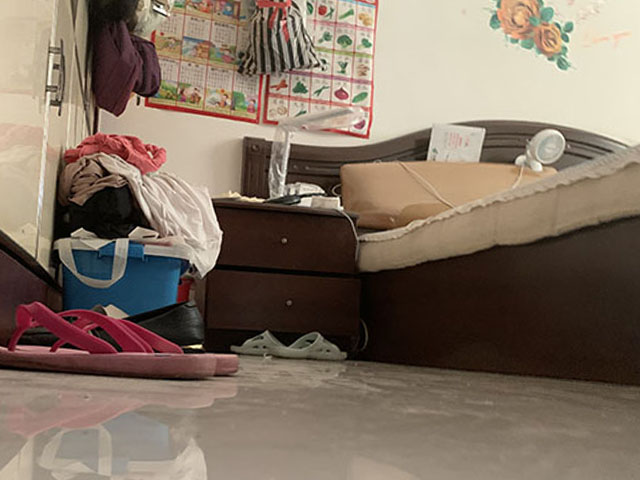bed: (356, 119, 640, 390)
cabinet: (206, 194, 361, 358)
slippers: (1, 300, 220, 380), (269, 331, 349, 363), (230, 328, 280, 356)
